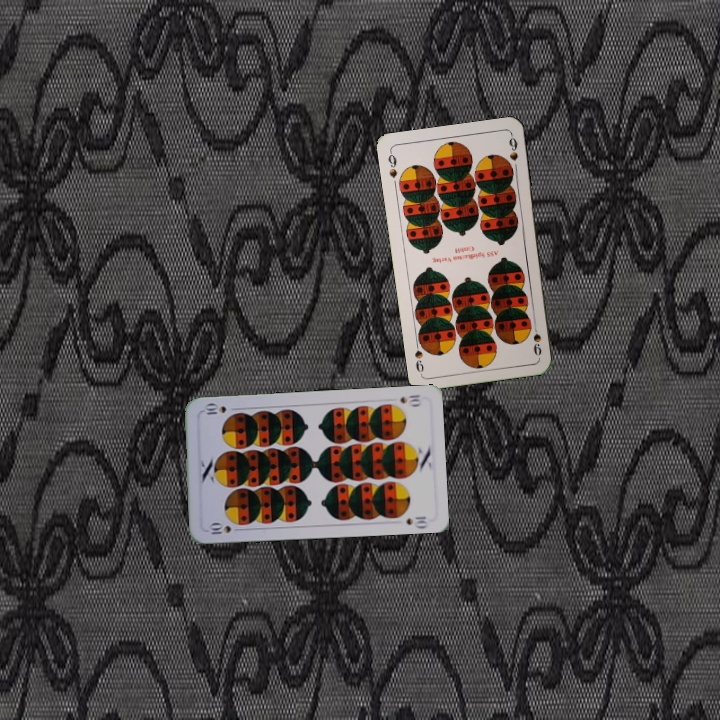S10: (204, 520, 244, 538), (395, 391, 423, 408)
S9: (529, 318, 544, 358), (384, 148, 400, 180)
